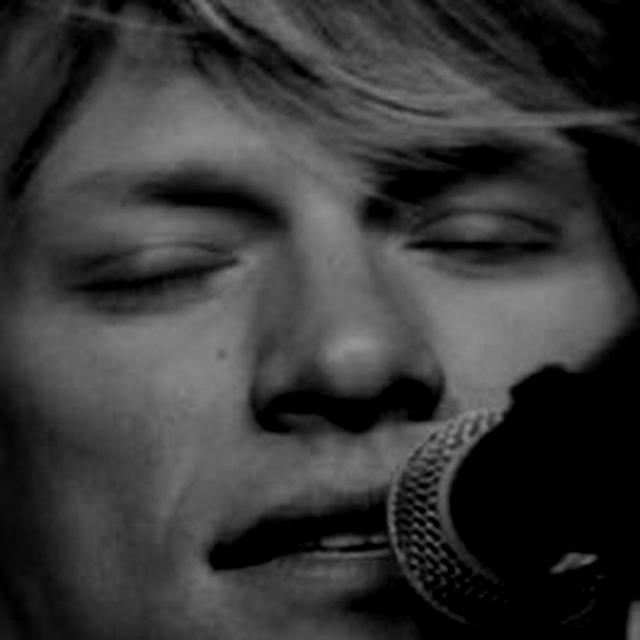real: (0, 0, 640, 640), (36, 191, 594, 307)
